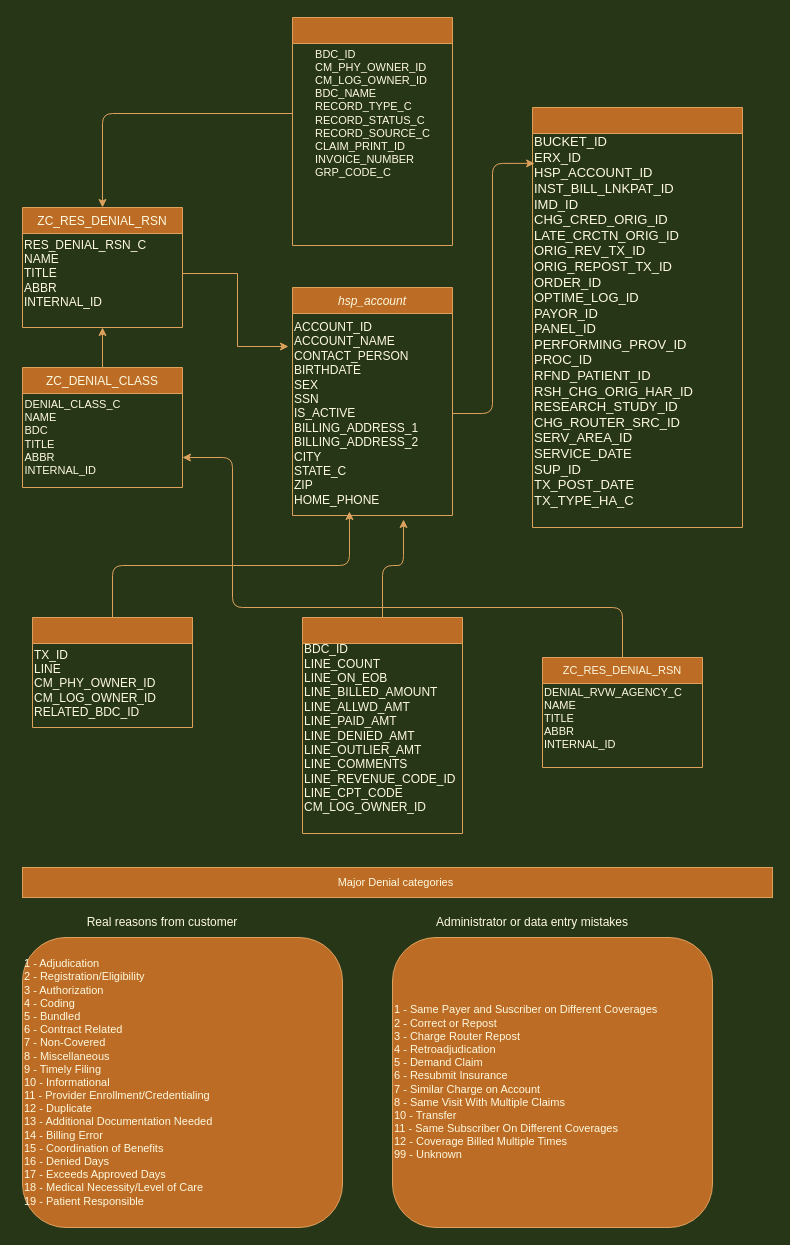
The diagram is 790 pixels wide and 1245 high, and some of its shapes have lost their labels. The shapes that lost their labels are listed below. From the top down, each one's box as (x1, y1, x2, y2) in pixels, then its label:
(292, 16, 452, 246): BDC_INFO
(532, 106, 742, 528): hsp_transactions
(32, 616, 192, 728): HSP_TX_RELATED_DENIALS
(302, 616, 462, 834): HSP_BDC_DENIAL_DATA
